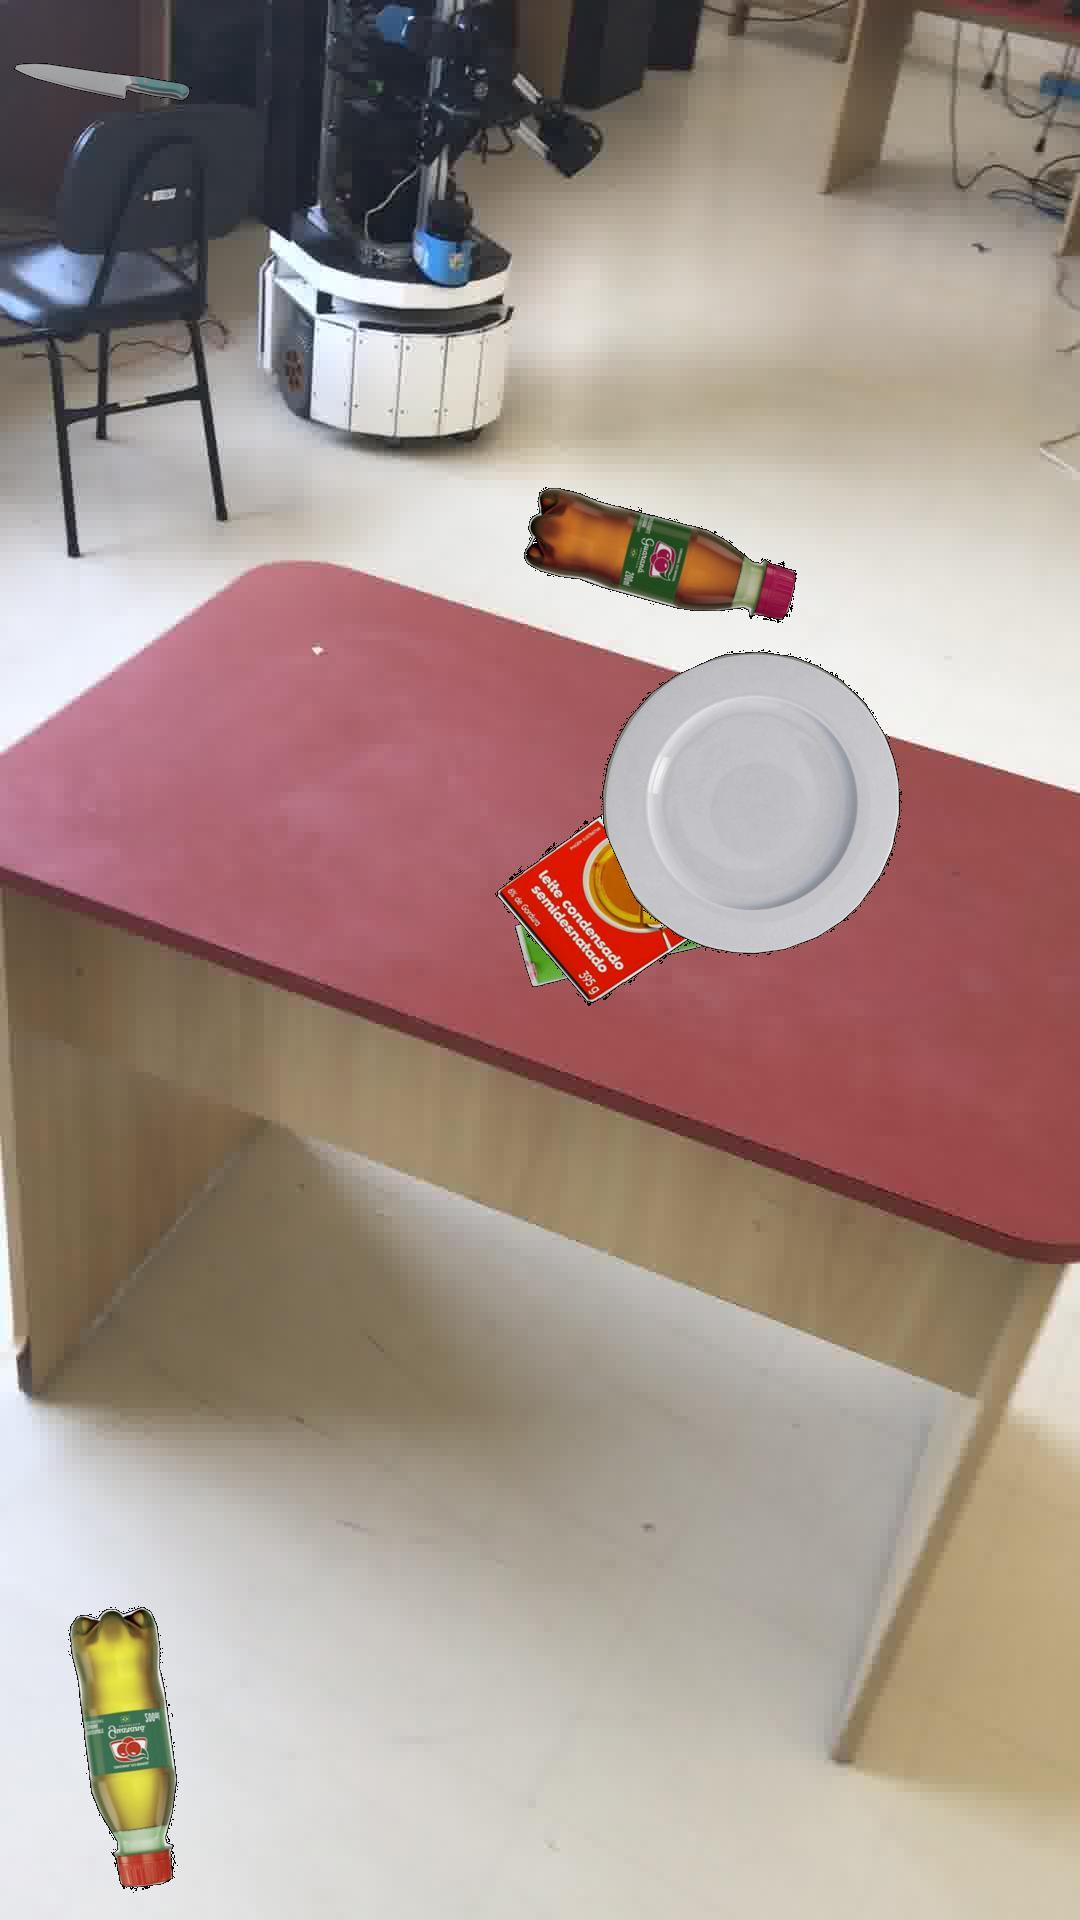guarana: (522, 487, 795, 621), (67, 1606, 175, 1888)
knife: (12, 62, 189, 99)
plate: (600, 650, 901, 952)
pringles: (513, 923, 702, 985)
